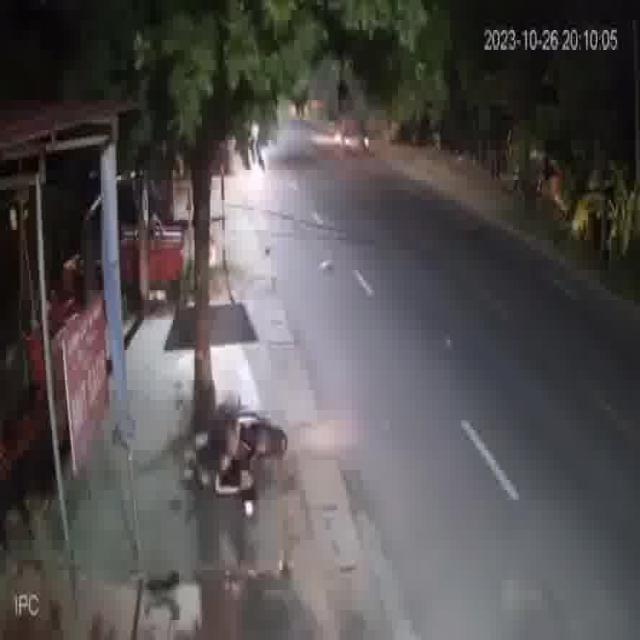multiple_accident: (177, 343, 299, 526)
